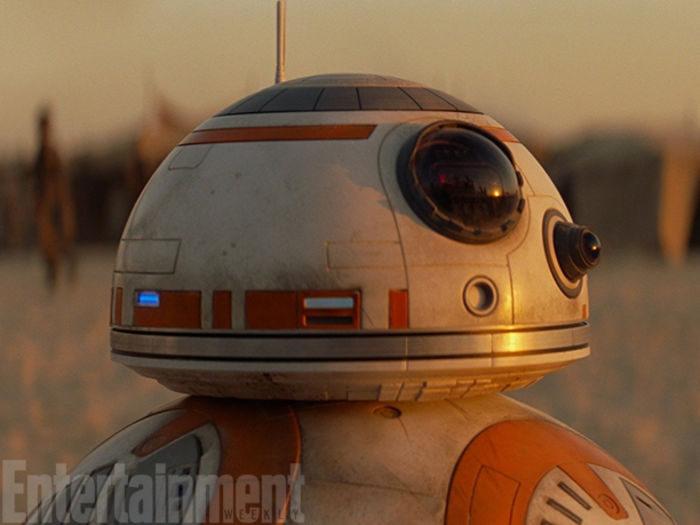bb8: (20, 73, 680, 525)
